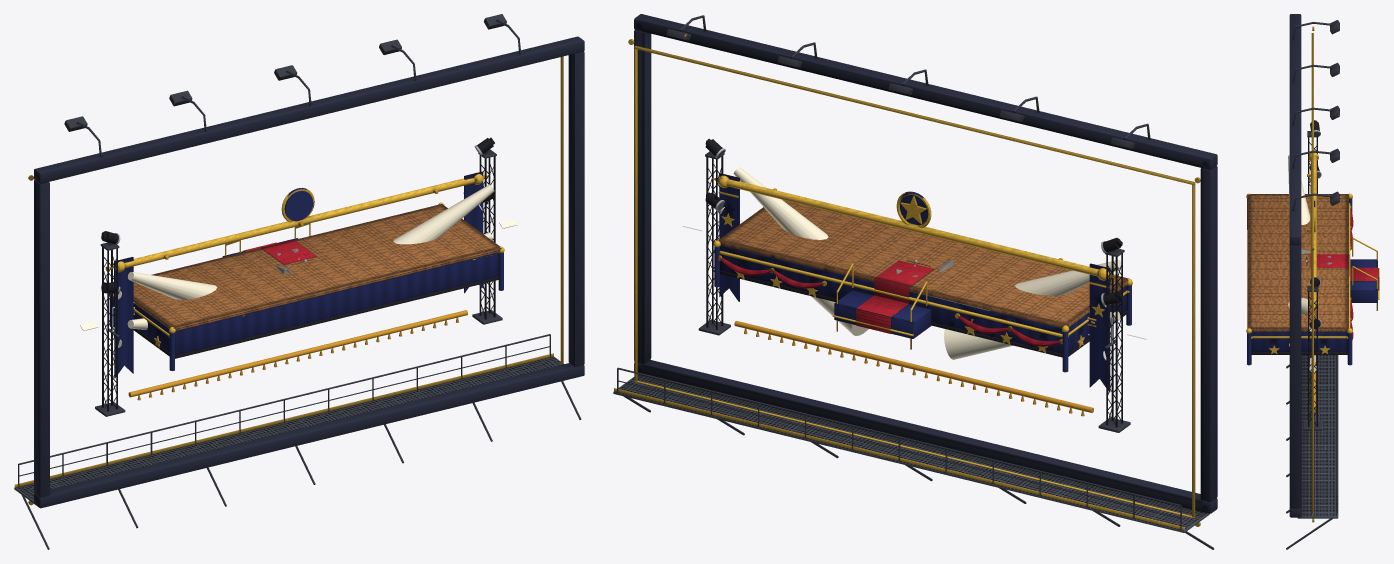
Rendered from Prologue.fbx.
3 renders of one model, left to right at view 1: azimuth 30°, elevation 25°; view 2: azimuth 150°, elevation 25°; view 3: azimuth 270°, elevation 25°, orthographic. The views are drawn at different scales.
Parts seen in each view (by area): view 1: BillboardBody.001, StageBody.001, HallBannerDetail.001, SpotlightsBody.001, SpotlightsBeam.001, HallBannerBody.001, BillboardDetail.001, StageDetail.001; view 2: BillboardBody.001, StageBody.001, HallBannerDetail.001, BillboardDetail.001, SpotlightsBody.001, SpotlightsBeam.001, StageDetail.001, HallBannerBody.001; view 3: StageBody.001, BillboardBody.001, StageDetail.001, BillboardDetail.001, SpotlightsBody.001, HallBannerDetail.001, SpotlightsBeam.001.
Part boxes in pixels (x1,y1,x2,y2): BillboardBody.001: (14, 14, 584, 549); StageBody.001: (113, 204, 501, 358); HallBannerDetail.001: (105, 172, 489, 400); SpotlightsBody.001: (95, 137, 502, 416); SpotlightsBeam.001: (127, 184, 494, 329); HallBannerBody.001: (114, 171, 483, 378); BillboardDetail.001: (28, 56, 563, 505); StageDetail.001: (109, 202, 504, 370); BillboardBody.001: (613, 14, 1217, 549); StageBody.001: (718, 199, 1129, 357); HallBannerDetail.001: (712, 175, 1118, 416); BillboardDetail.001: (628, 39, 1200, 526); SpotlightsBody.001: (698, 138, 1130, 432); SpotlightsBeam.001: (733, 167, 1121, 359); StageDetail.001: (713, 240, 1132, 372); HallBannerBody.001: (719, 173, 1110, 392); StageBody.001: (1247, 194, 1378, 354); BillboardBody.001: (1286, 14, 1339, 549); StageDetail.001: (1246, 193, 1379, 365); BillboardDetail.001: (1311, 26, 1314, 522); SpotlightsBody.001: (1303, 120, 1322, 430); HallBannerDetail.001: (1307, 150, 1318, 412); SpotlightsBeam.001: (1288, 155, 1310, 346).
Bounding box in the file's own units: 72.8 × 50.67 × 18.42.
Materials: 16 (10 with a texture image).
